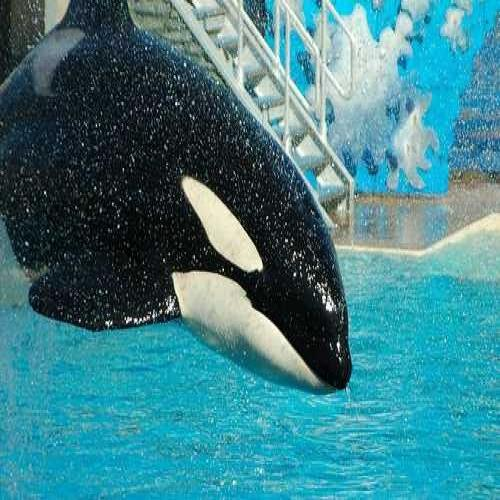killer_whale-endangered: (0, 0, 364, 405)
